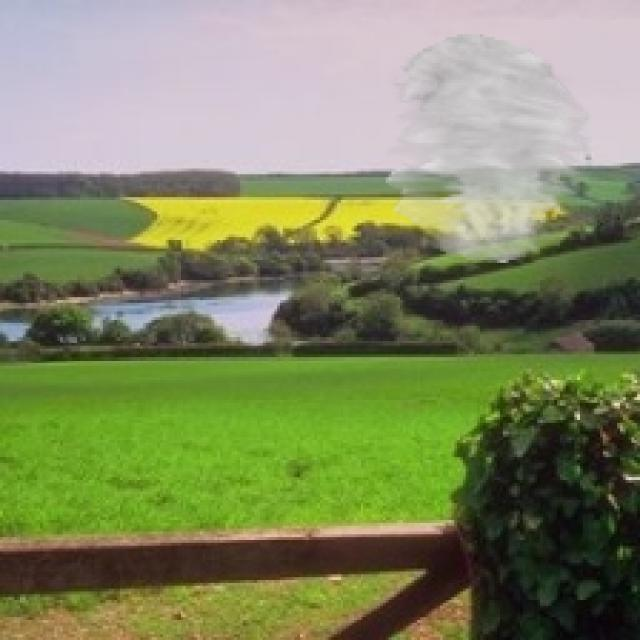smoke: (386, 34, 591, 263)
